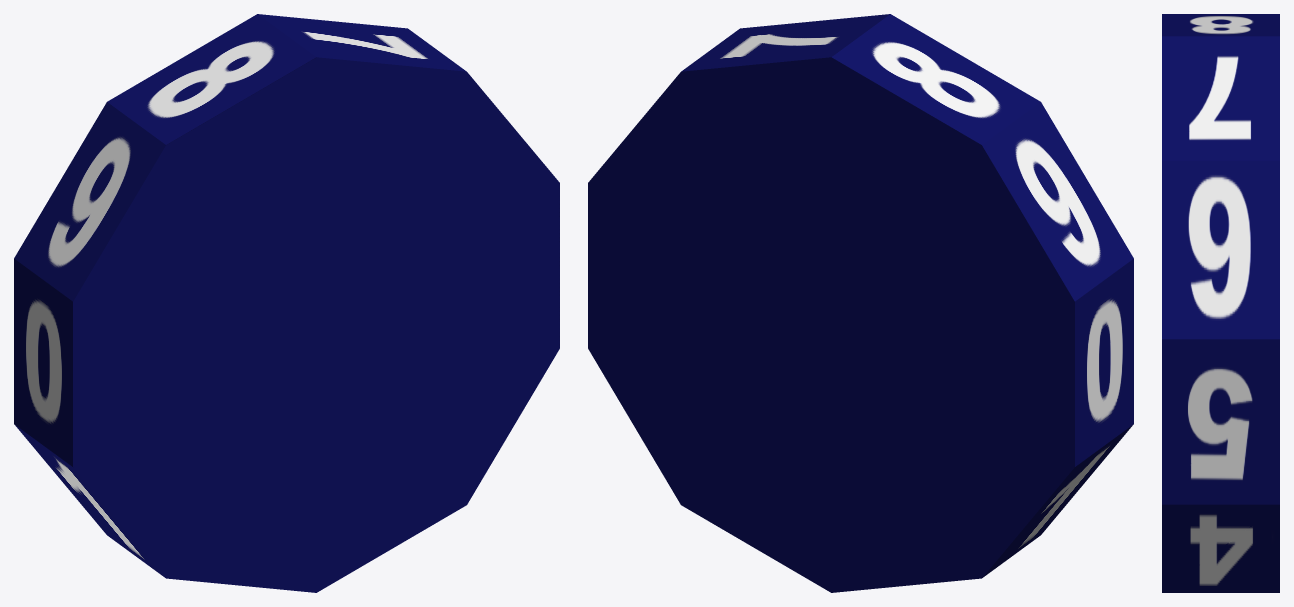
The model's file is CombinationLock Wheel.glb.
The picture shows the model from 3 angles, left to right: view 1: azimuth 30°, elevation 25°; view 2: azimuth 150°, elevation 25°; view 3: azimuth 270°, elevation 25°; orthographic projection.
Parts seen in each view (by area): view 1: 1st wheel; view 2: 1st wheel; view 3: 1st wheel.
Boxes of the visible parts, left/top/right/bottom form: 1st wheel: left=14, top=14, right=559, bottom=592; 1st wheel: left=588, top=14, right=1133, bottom=592; 1st wheel: left=1162, top=14, right=1279, bottom=592.
Size of the model in its own units: 2.75 by 2.89 by 0.5786.
Materials: 1 (1 with a texture image).
